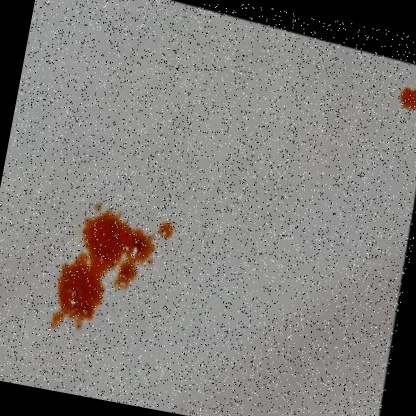kimchi: (46, 191, 181, 346), (399, 81, 416, 120)
